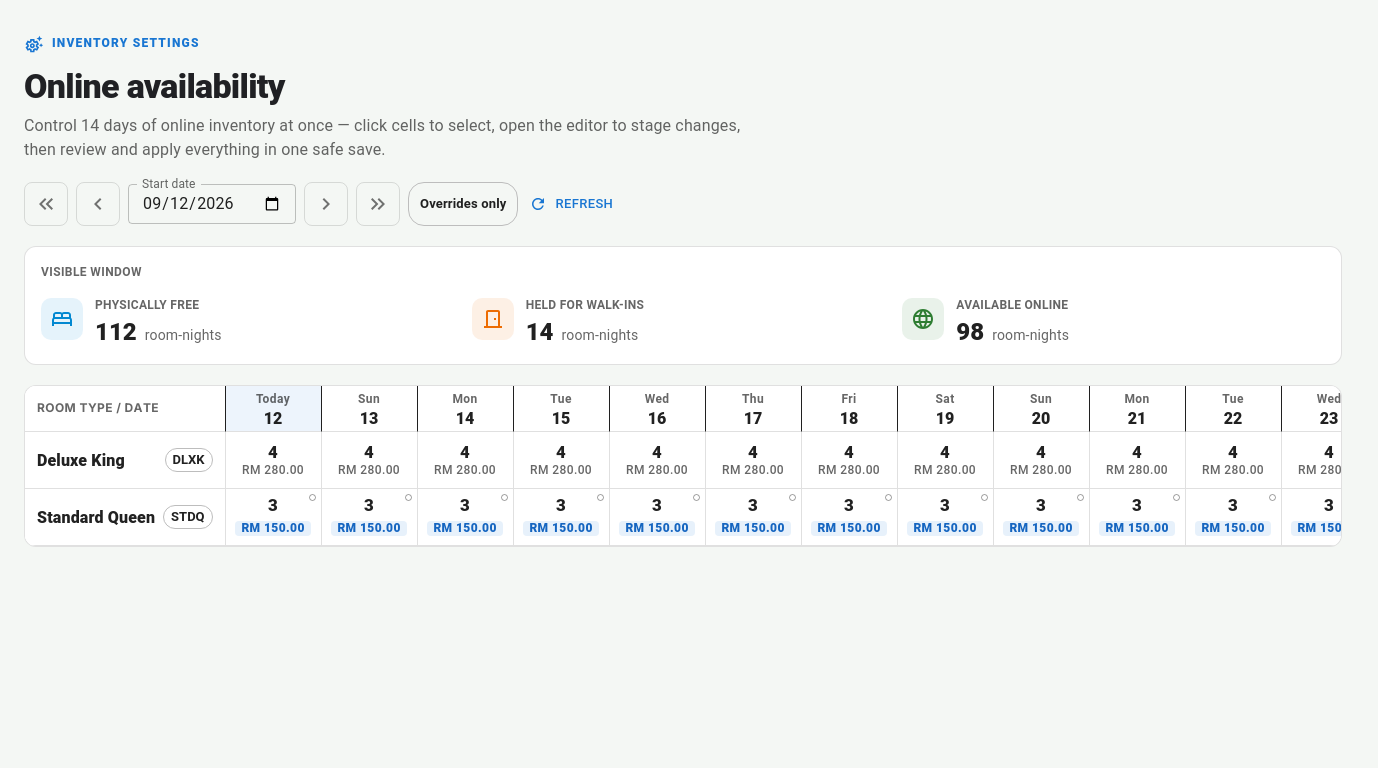
Scenario: OnlineInventoryPage › stages a cell through the editor and shows the pending-changes bar
Step 1. Press Enter in the cell named "Deluxe King,", box [226,432,322,489]
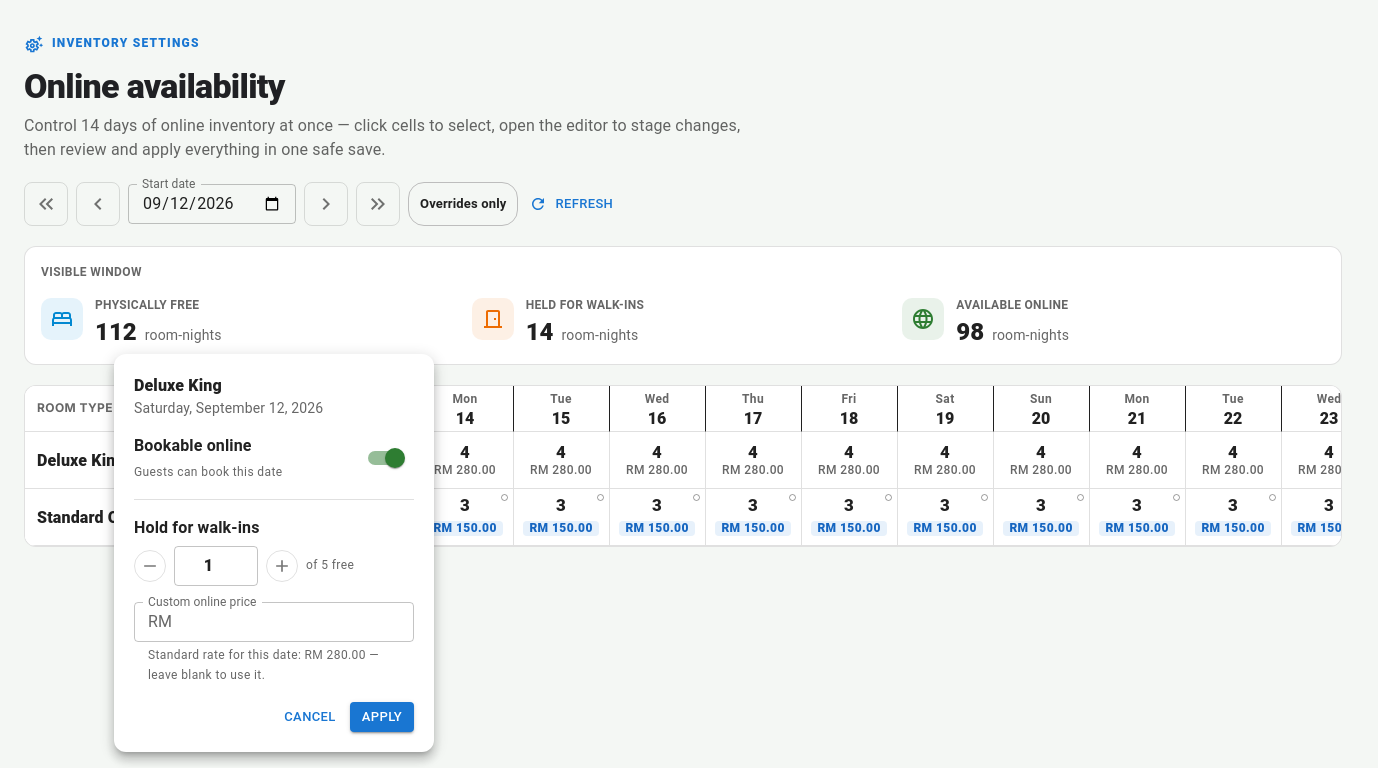
Step 2. Replace the text in the number field named "walk-in hold" with "2" → (216, 566), box [174,546,258,586]
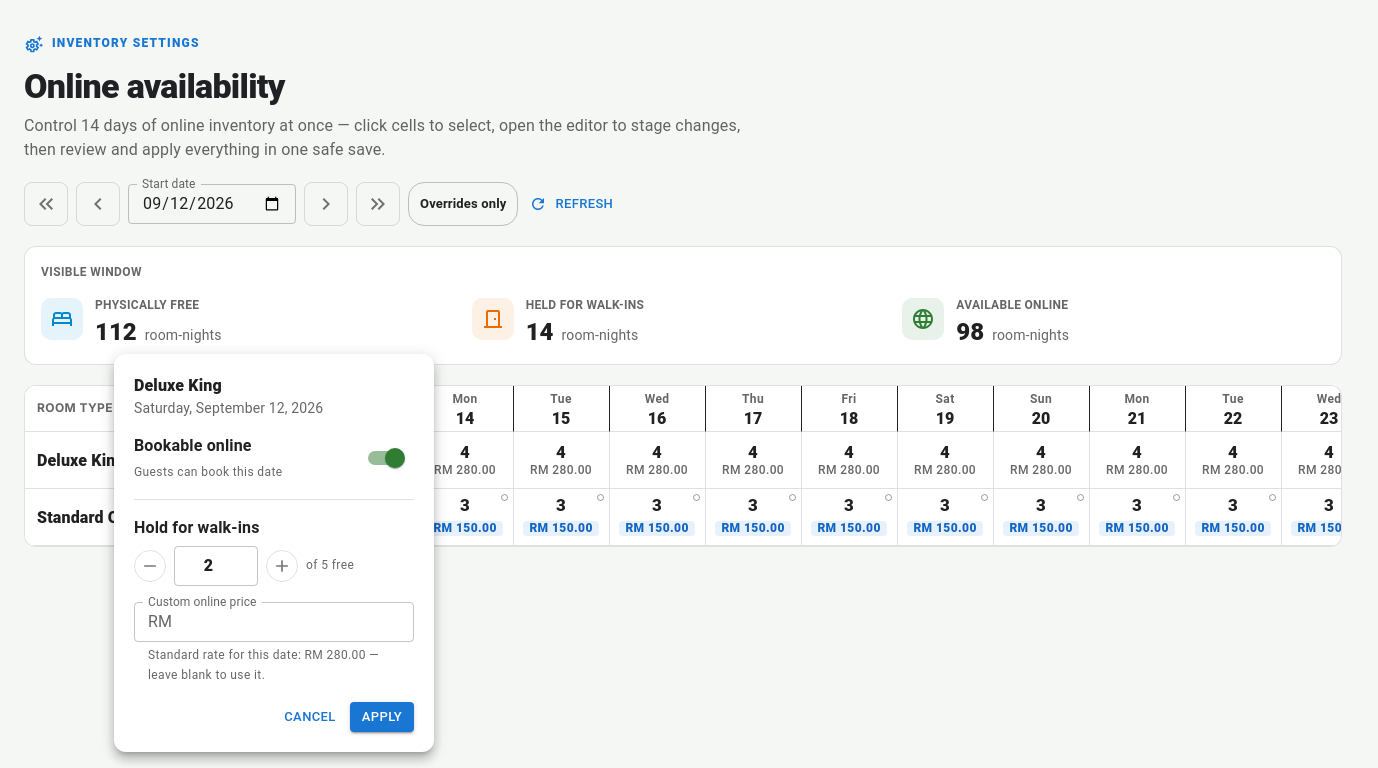
Step 3. Click the button "Apply" → (382, 717), box [350,702,414,732]
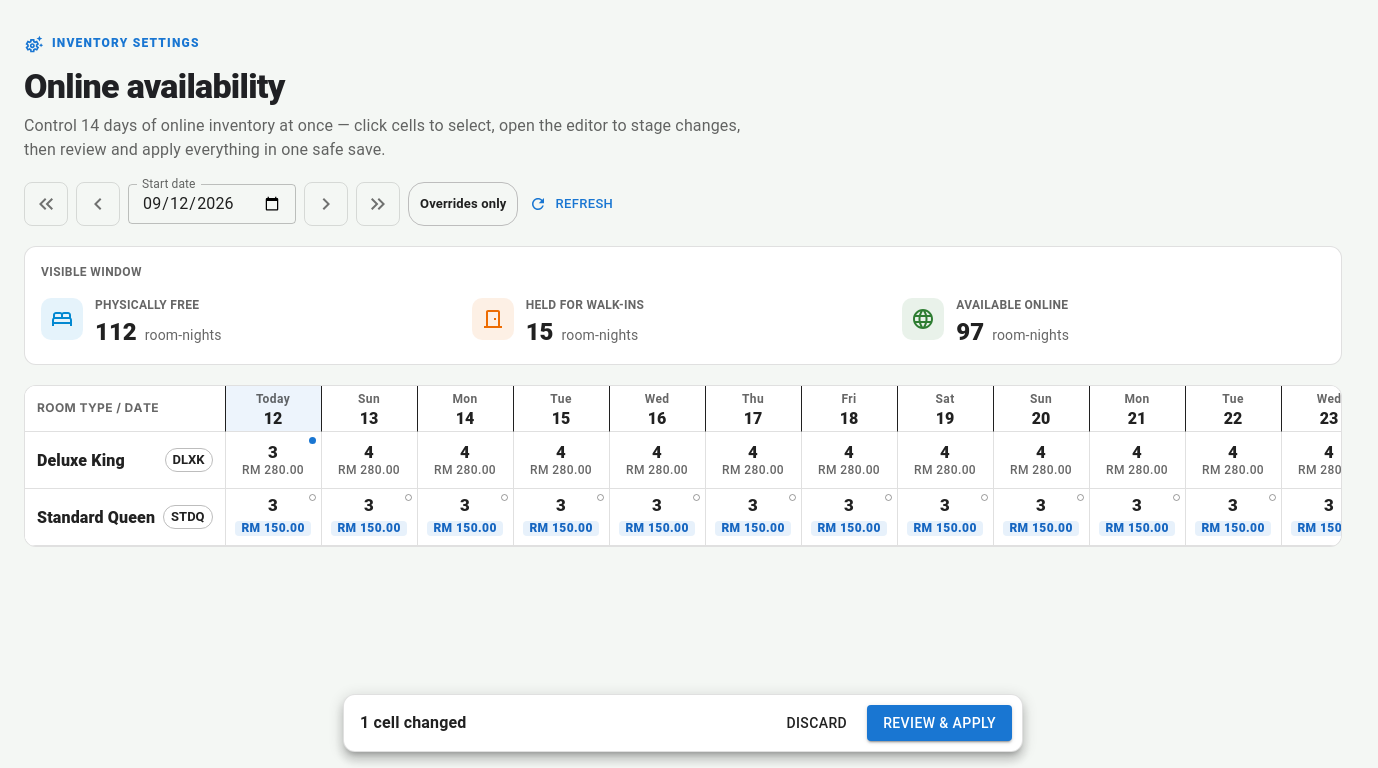
Now the text "1 cell changed" is shown, box [360,713,466,732]
